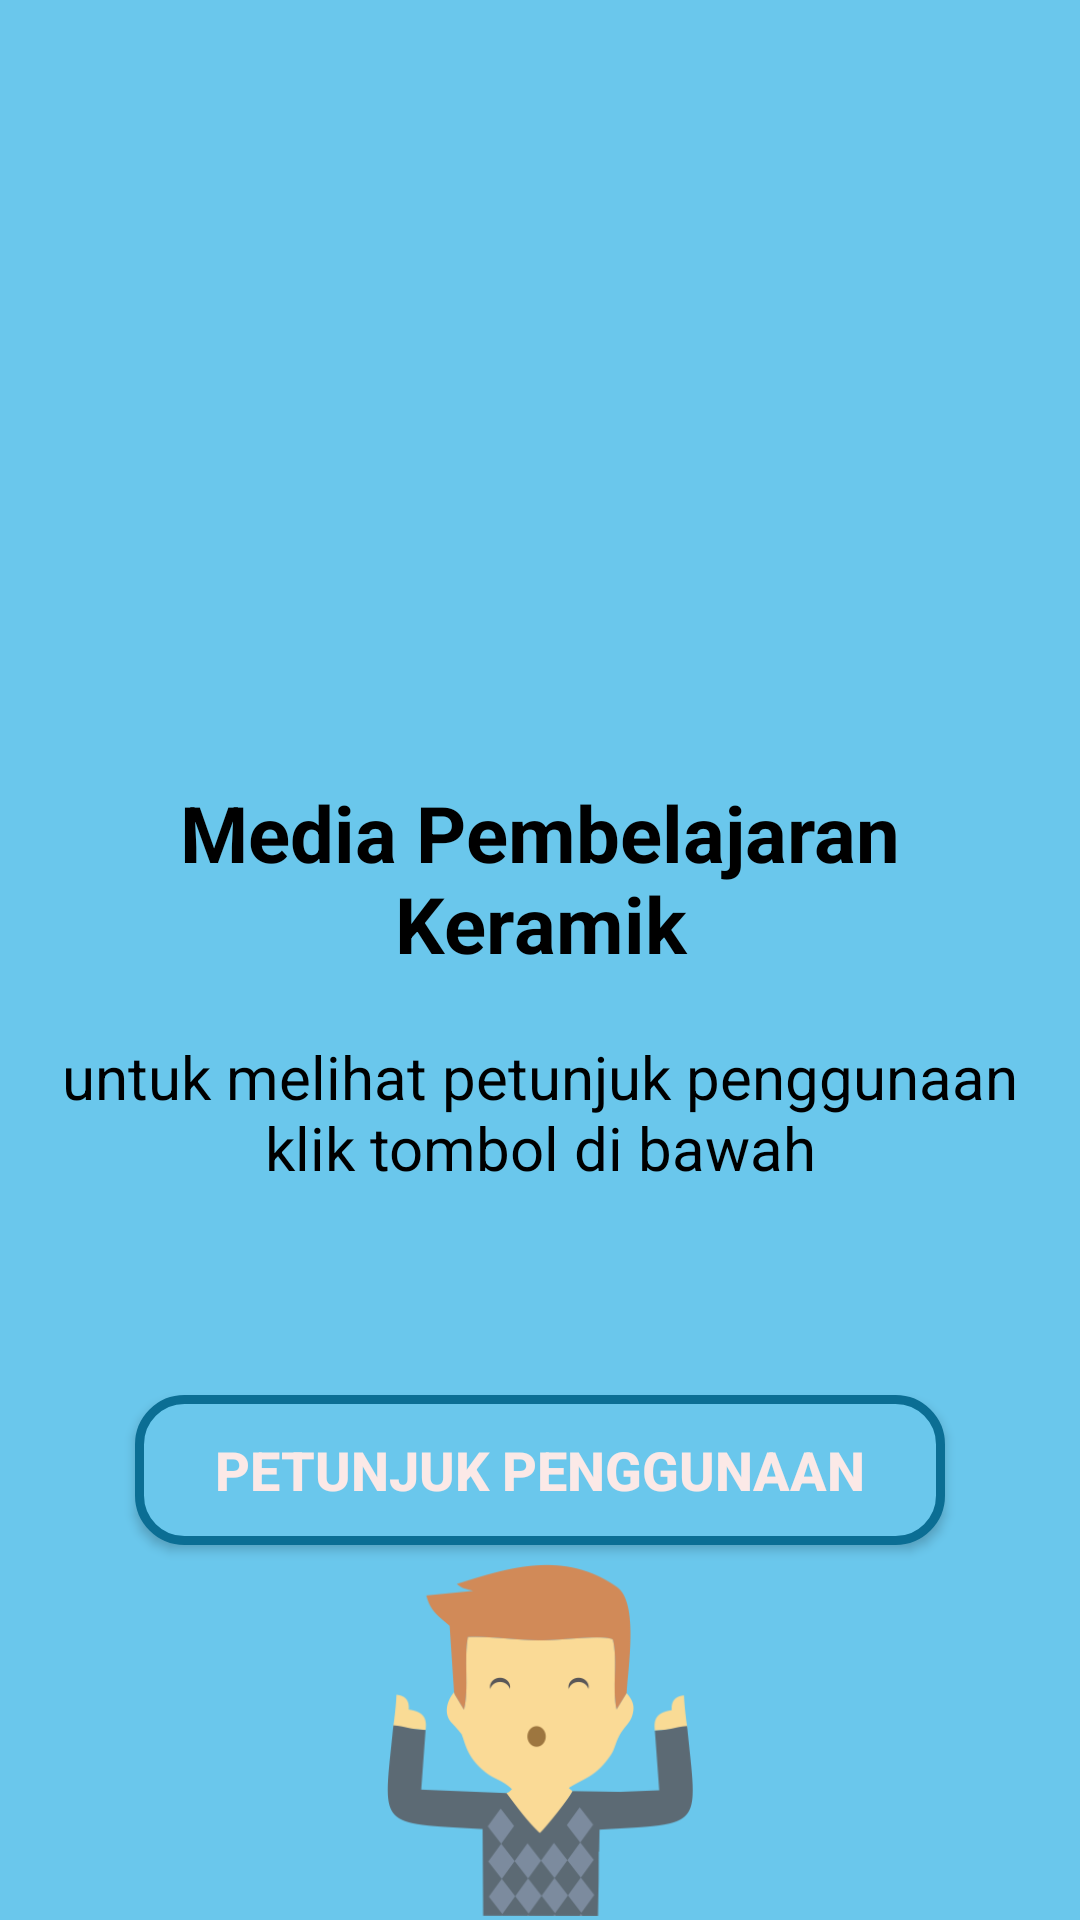

Screen size 1080px x 1920px. Icon name, then its center in pixels as (x,y):
mascot: (540,1740)
